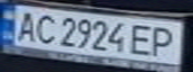2: (54, 14, 78, 48), (90, 18, 112, 52)
4: (106, 19, 130, 54)
9: (72, 16, 93, 51)
A: (9, 8, 42, 43)
C: (30, 11, 57, 45)
E: (127, 21, 160, 56)
P: (145, 24, 184, 58)
